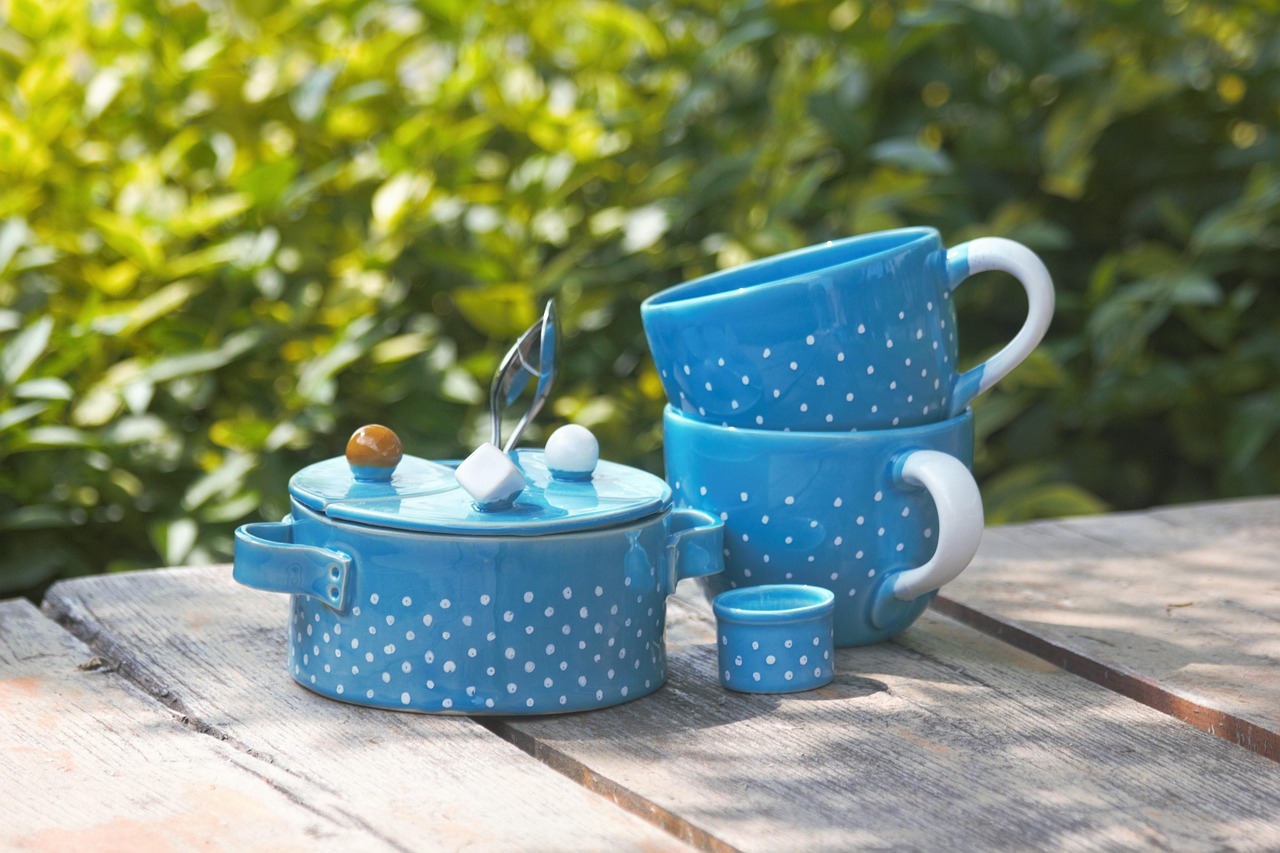mug: (671, 208, 1054, 654)
